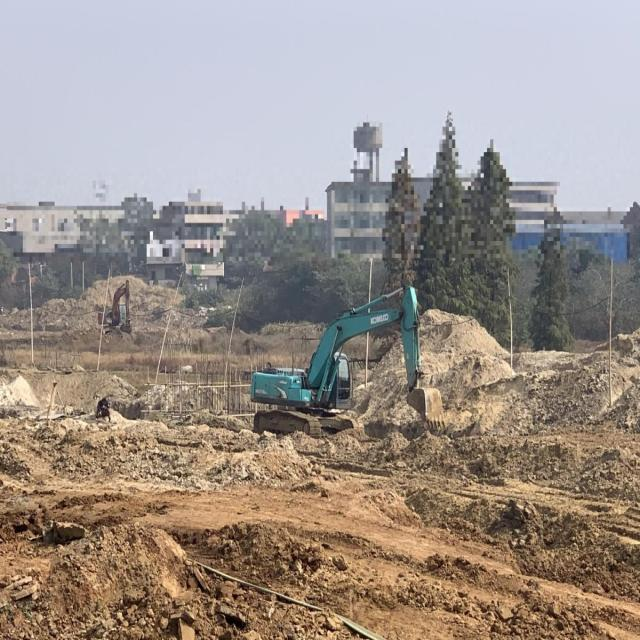excavator: (246, 274, 451, 444)
